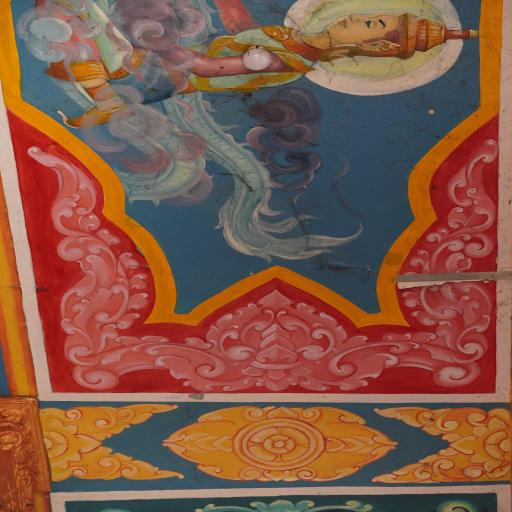hoa: (162, 404, 400, 486), (372, 392, 512, 496), (41, 400, 188, 482)
la: (16, 141, 184, 394), (386, 132, 504, 394), (164, 274, 399, 401), (174, 490, 376, 512), (435, 495, 492, 512), (90, 506, 144, 512)
than: (0, 0, 488, 123)
